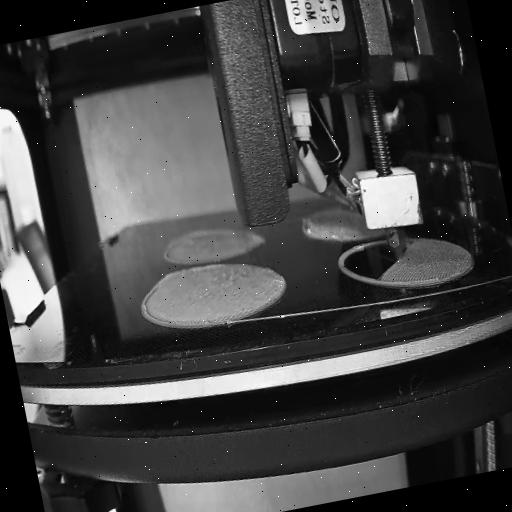over_extrusion: (135, 281, 166, 335)
